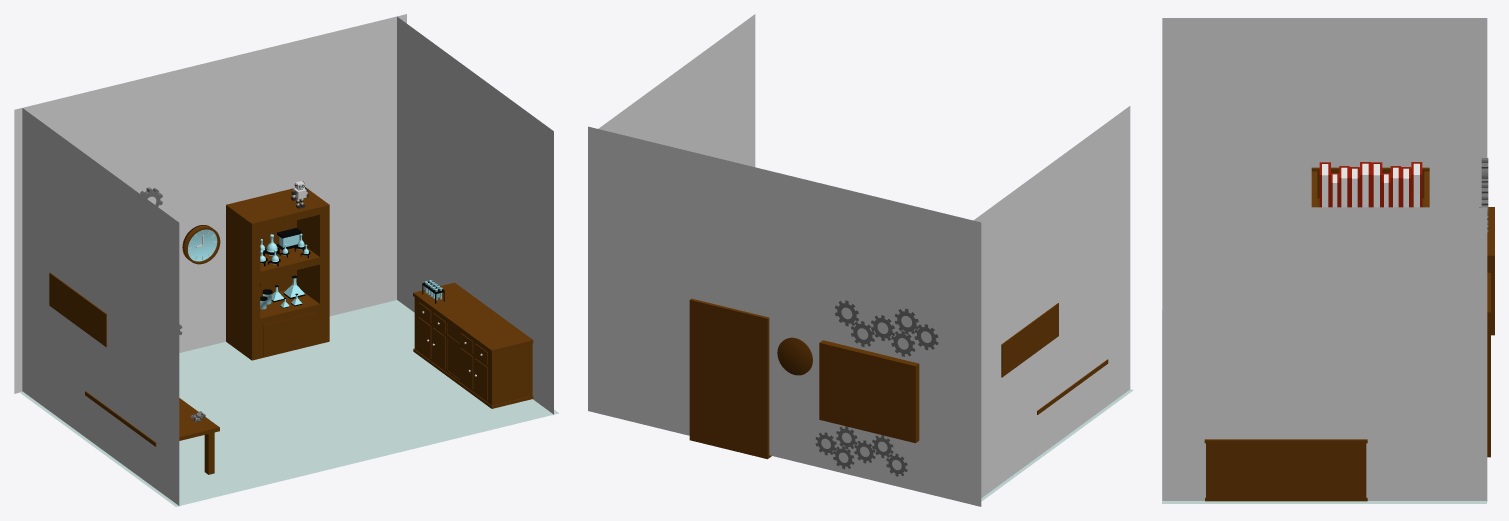
File: Laboratorio.fbx
3 views of the same model, side by side, from view 1: azimuth 30°, elevation 25°; view 2: azimuth 150°, elevation 25°; view 3: azimuth 270°, elevation 25° (orthographic). The views are drawn at different scales.
Visible parts, largest first — view 1: Plano, Plano.001, Plano.003, Plano.002, Cubo.002, Cubo, Estanat, Cubo.001, Cilindro, PipaLaboratorio.001; view 2: Plano, Plano.001, Plano.002, Cubo.002, Cubo.003, Gear, Estanat, Gear.001, Cilindro, Plano.003; view 3: Plano.002, Plano.001, Cubo, Libros, Plano.003, Estanat, Cubo.003, Cubo.002, Gear.
Part boxes in pixels (x1=…): Plano: x1=14, y1=14, x2=406, y2=393; Plano.001: x1=22, y1=108, x2=179, y2=505; Plano.003: x1=19, y1=300, x2=558, y2=506; Plano.002: x1=397, y1=16, x2=553, y2=414; Cubo.002: x1=226, y1=187, x2=329, y2=360; Cubo: x1=413, y1=282, x2=533, y2=408; Estanat: x1=49, y1=272, x2=106, y2=346; Cubo.001: x1=85, y1=391, x2=219, y2=474; Cilindro: x1=182, y1=225, x2=220, y2=264; PipaLaboratorio.001: x1=260, y1=233, x2=310, y2=266; Plano: x1=588, y1=126, x2=981, y2=506; Plano.001: x1=973, y1=106, x2=1130, y2=497; Plano.002: x1=598, y1=14, x2=755, y2=166; Cubo.002: x1=689, y1=298, x2=771, y2=459; Cubo.003: x1=819, y1=340, x2=919, y2=443; Gear: x1=835, y1=300, x2=938, y2=356; Estanat: x1=1001, y1=303, x2=1058, y2=377; Gear.001: x1=815, y1=426, x2=907, y2=476; Cilindro: x1=777, y1=337, x2=812, y2=375; Plano.003: x1=981, y1=389, x2=1133, y2=501; Plano.002: x1=1162, y1=207, x2=1487, y2=501; Plano.001: x1=1162, y1=18, x2=1487, y2=207; Cubo: x1=1204, y1=439, x2=1367, y2=501; Libros: x1=1319, y1=162, x2=1422, y2=207; Plano.003: x1=1162, y1=310, x2=1486, y2=503; Estanat: x1=1311, y1=167, x2=1429, y2=207; Cubo.003: x1=1479, y1=207, x2=1494, y2=335; Cubo.002: x1=1487, y1=273, x2=1490, y2=457; Gear: x1=1481, y1=158, x2=1488, y2=232.
Bounding box in the file's own units: 1221 × 853 × 865.
